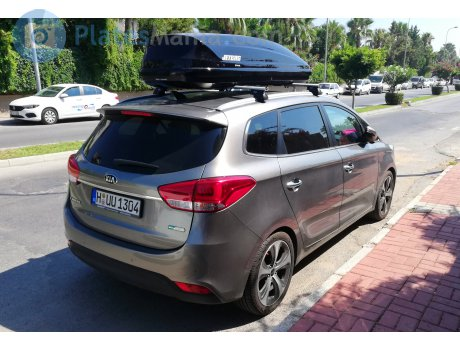License Plates: (93, 190, 144, 213)
